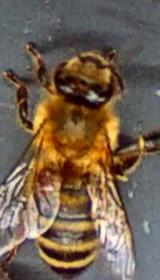varroa_mite: (26, 157, 68, 191)
